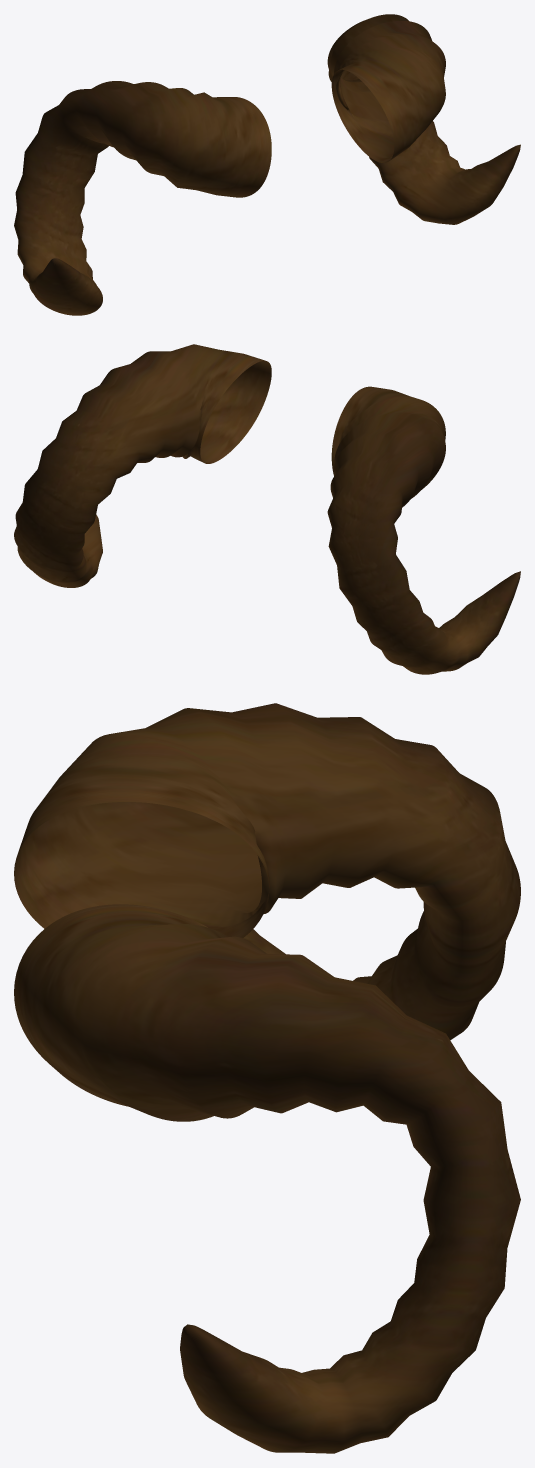
File: faunhorns.glb
3 views of the same model, one above another, from view 1: azimuth 30°, elevation 25°; view 2: azimuth 150°, elevation 25°; view 3: azimuth 270°, elevation 25° (orthographic). The views are drawn at different scales.
Visible parts, largest first — view 1: faunhorns; view 2: faunhorns; view 3: faunhorns.
Boxes of the visible parts, bbox=[...] form: faunhorns: bbox=[14, 14, 520, 315]; faunhorns: bbox=[14, 344, 520, 674]; faunhorns: bbox=[14, 703, 520, 1453].
Bounding box in the file's own units: 0.3392 × 0.1522 × 0.1602.
Materials: 1 (1 with a texture image).
